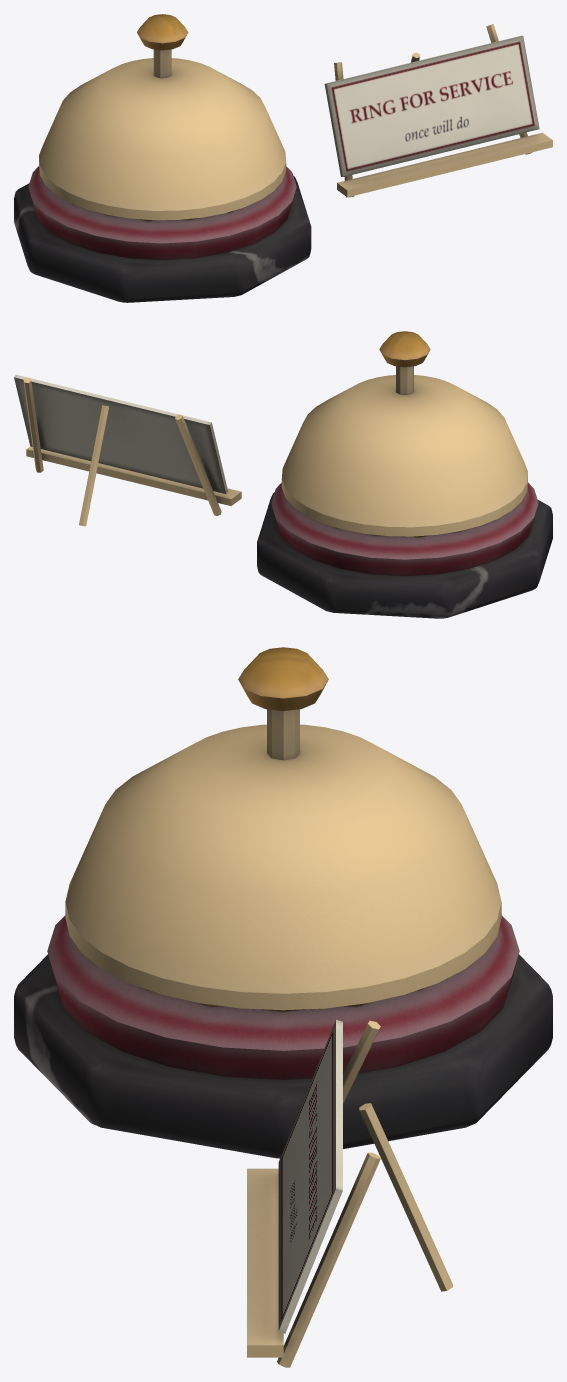
File: CounterBell.fbx
3 renders of one model, top to bottom at view 1: azimuth 30°, elevation 25°; view 2: azimuth 150°, elevation 25°; view 3: azimuth 270°, elevation 25°, orthographic. The views are drawn at different scales.
Parts seen in each view (by area): view 1: CounterBell; view 2: CounterBell; view 3: CounterBell.
Part boxes in pixels (x1,y1,x2,y2): CounterBell: (14, 14, 552, 302); CounterBell: (14, 331, 552, 618); CounterBell: (14, 647, 552, 1367).
Bounding box in the file's own units: 115 × 48.28 × 59.33.
